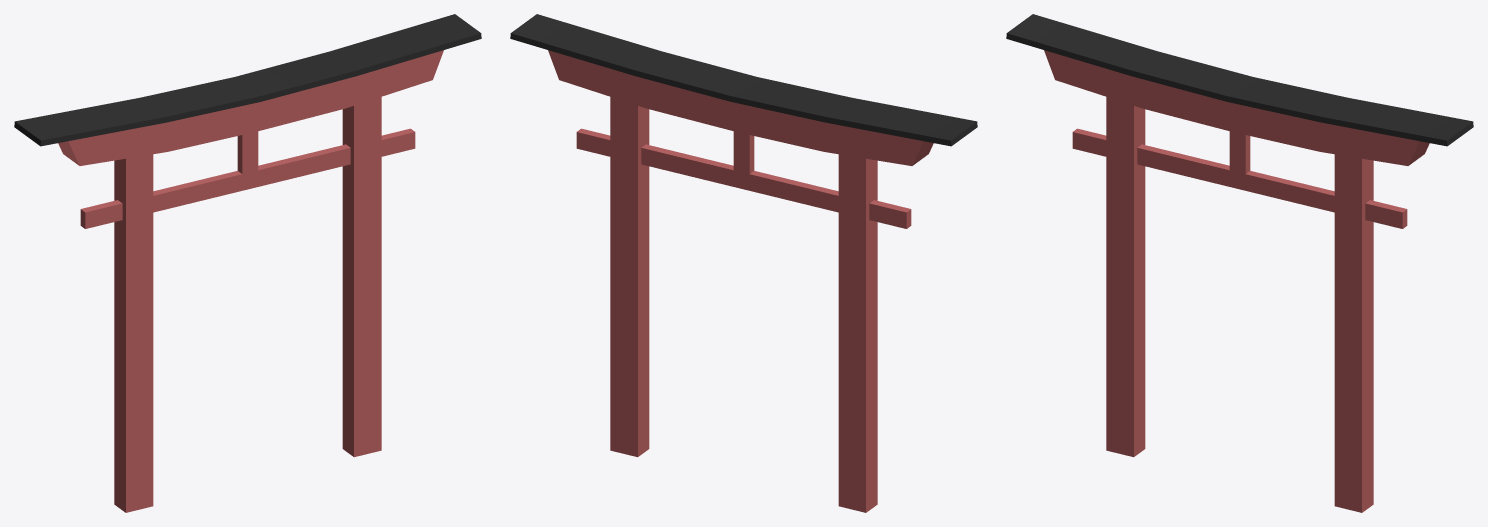
Rendered from SM_torii.fbx.
3 views of the same model, side by side, from view 1: azimuth 30°, elevation 25°; view 2: azimuth 150°, elevation 25°; view 3: azimuth 330°, elevation 25° (orthographic).
Visible parts, largest first — view 1: SM_torii; view 2: SM_torii; view 3: SM_torii.
Part boxes in pixels (x1,y1,x2,y2): SM_torii: (14, 14, 481, 512); SM_torii: (510, 14, 977, 512); SM_torii: (1006, 14, 1473, 512).
Bounding box in the file's own units: 384 × 333 × 39.49.
